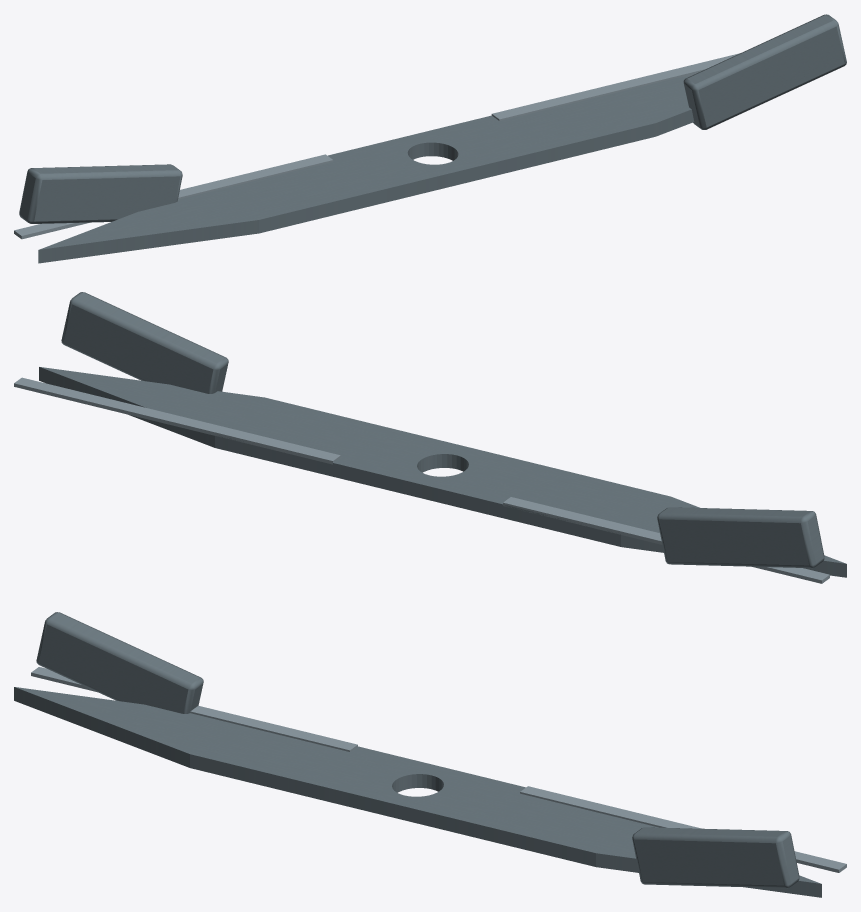
File: SpareMowerBlade.gltf
3 renders of one model, top to bottom at view 1: azimuth 30°, elevation 25°; view 2: azimuth 150°, elevation 25°; view 3: azimuth 330°, elevation 25°, orthographic. The views are drawn at different scales.
Parts seen in each view (by area): view 1: SpareMowerBlade__Body; view 2: SpareMowerBlade__Body; view 3: SpareMowerBlade__Body.
Boxes of the visible parts, left/top/right/bottom form: SpareMowerBlade__Body: left=14, top=14, right=846, bottom=263; SpareMowerBlade__Body: left=14, top=292, right=846, bottom=583; SpareMowerBlade__Body: left=14, top=612, right=846, bottom=897.
Bounding box in the file's own units: 0.532 × 0.0501 × 0.063.
1 material, 1 textured.
